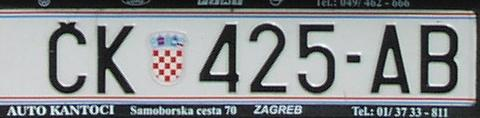-: (346, 52, 362, 65)
2: (249, 21, 289, 96)
4: (198, 22, 241, 93)
5: (297, 22, 337, 95)
A: (370, 23, 411, 95)
B: (420, 22, 460, 95)
C: (46, 24, 88, 97)
K: (95, 23, 136, 95)
